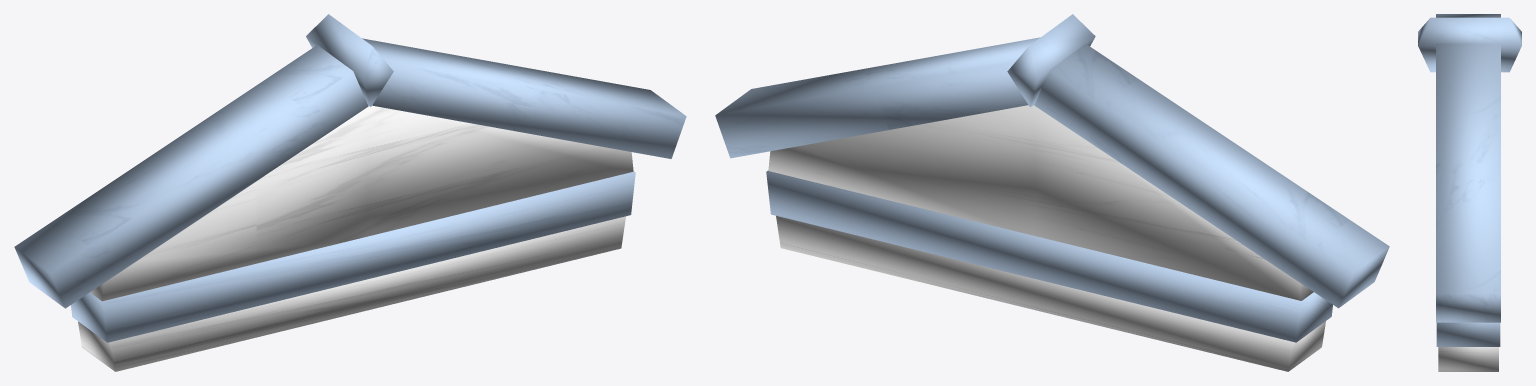
The model's file is GreekRoof1.fbx.
The picture shows the model from 3 angles, left to right: view 1: azimuth 30°, elevation 25°; view 2: azimuth 150°, elevation 25°; view 3: azimuth 270°, elevation 25°; orthographic projection. The views are drawn at different scales.
Visible parts, largest first — view 1: Cube.018; view 2: Cube.018; view 3: Cube.018.
Boxes of the visible parts, x1,y1,x2,y2 form: Cube.018: (14,14,686,371); Cube.018: (715,14,1389,371); Cube.018: (1418,14,1521,371).
Size of the model in its own units: 1923 by 772 by 300.
